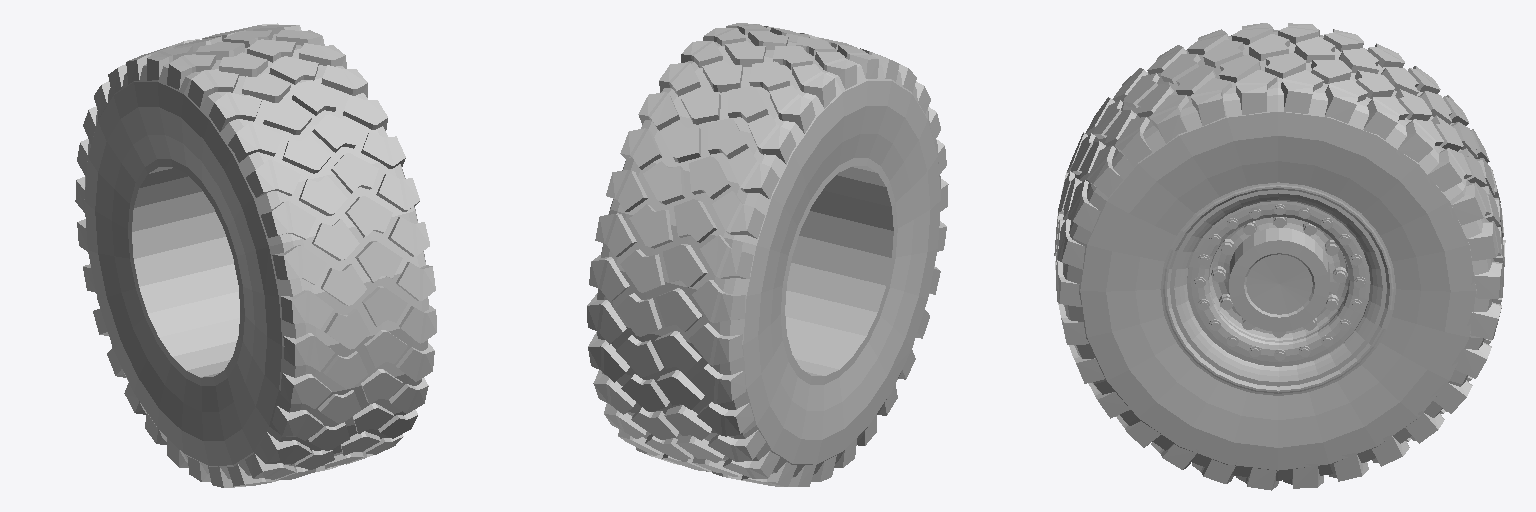
The model's file is car_tire.obj.
3 views of the same model, side by side, from view 1: azimuth 30°, elevation 25°; view 2: azimuth 150°, elevation 25°; view 3: azimuth 270°, elevation 25° (orthographic).
Parts seen in each view (by area): view 1: nurbsCircle27, tire_2, loftedSurface6; view 2: nurbsCircle27, tire_2, loftedSurface6; view 3: tire_2, nurbsCircle27, loftedSurface5, loftedSurface7, pCylinder38, pCylinder18.
Part boxes in pixels (x1,y1,x2,y2): nurbsCircle27: (75,23,436,487); tire_2: (84,34,428,478); loftedSurface6: (128,159,244,385); nurbsCircle27: (587,23,948,486); tire_2: (597,34,940,477); loftedSurface6: (781,158,897,384); tire_2: (1063,30,1494,480); nurbsCircle27: (1054,23,1505,490); loftedSurface5: (1160,182,1395,395); loftedSurface7: (1228,228,1329,331); pCylinder38: (1194,204,1365,360); pCylinder18: (1211,217,1347,337).
Size of the model in its own units: 2.63 by 6.78 by 6.8.